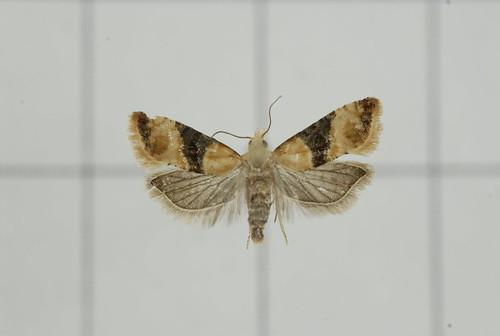Eupoecilia Ambiguella: (125, 92, 384, 249)
